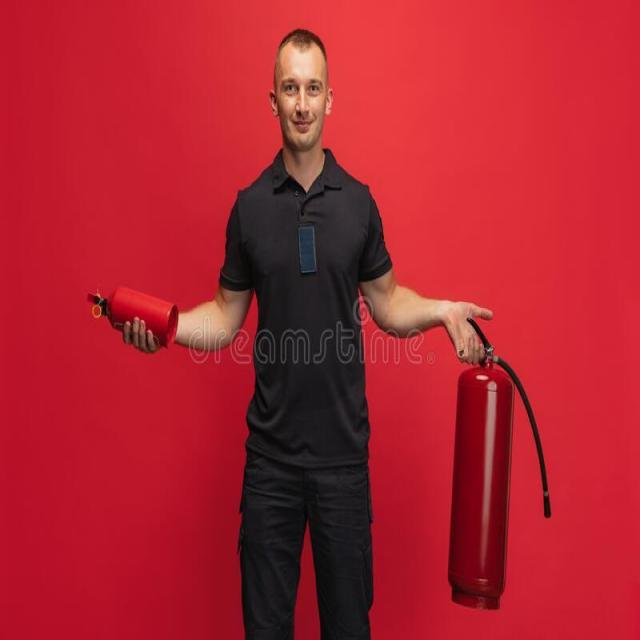fire_extinguisher: (446, 306, 554, 616), (80, 276, 184, 356)
